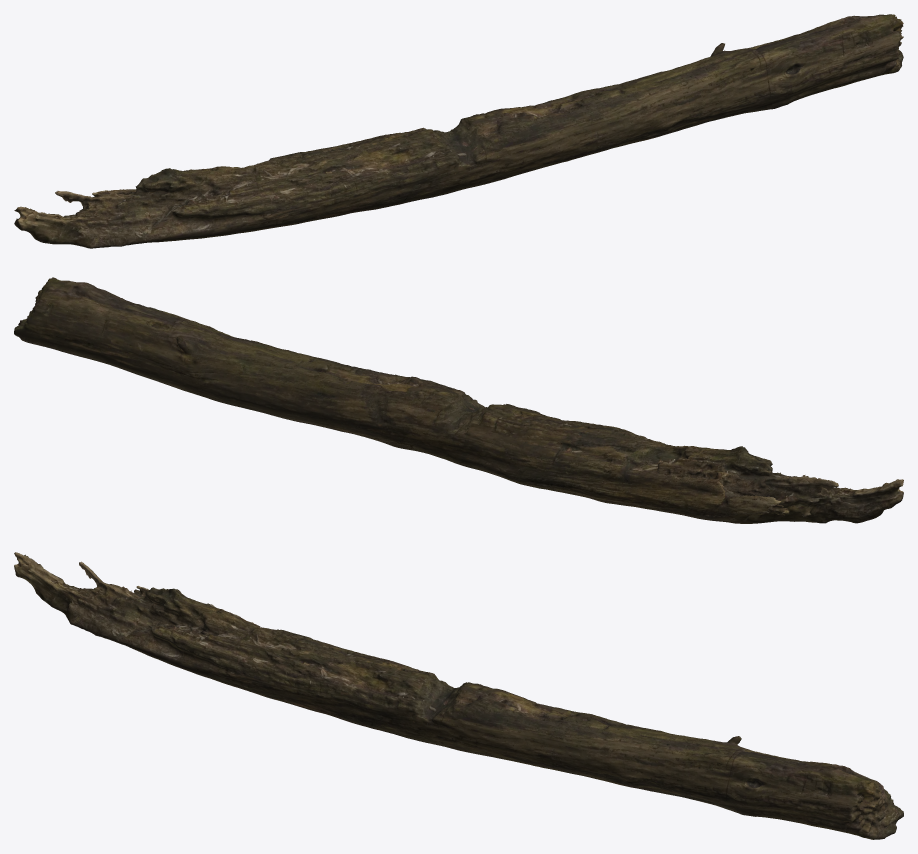
Rendered from dead_tree_trunk.glb.
3 renders of one model, top to bottom at view 1: azimuth 30°, elevation 25°; view 2: azimuth 150°, elevation 25°; view 3: azimuth 330°, elevation 25°, orthographic.
Visible parts, largest first — view 1: dead_tree_trunk; view 2: dead_tree_trunk; view 3: dead_tree_trunk.
Part boxes in pixels (x1=…): dead_tree_trunk: x1=14, y1=14, x2=903, y2=248; dead_tree_trunk: x1=14, y1=277, x2=903, y2=523; dead_tree_trunk: x1=14, y1=552, x2=903, y2=839.
Size of the model in its own units: 3.05 by 0.2905 by 0.2775.
Materials: 1 (1 with a texture image).
